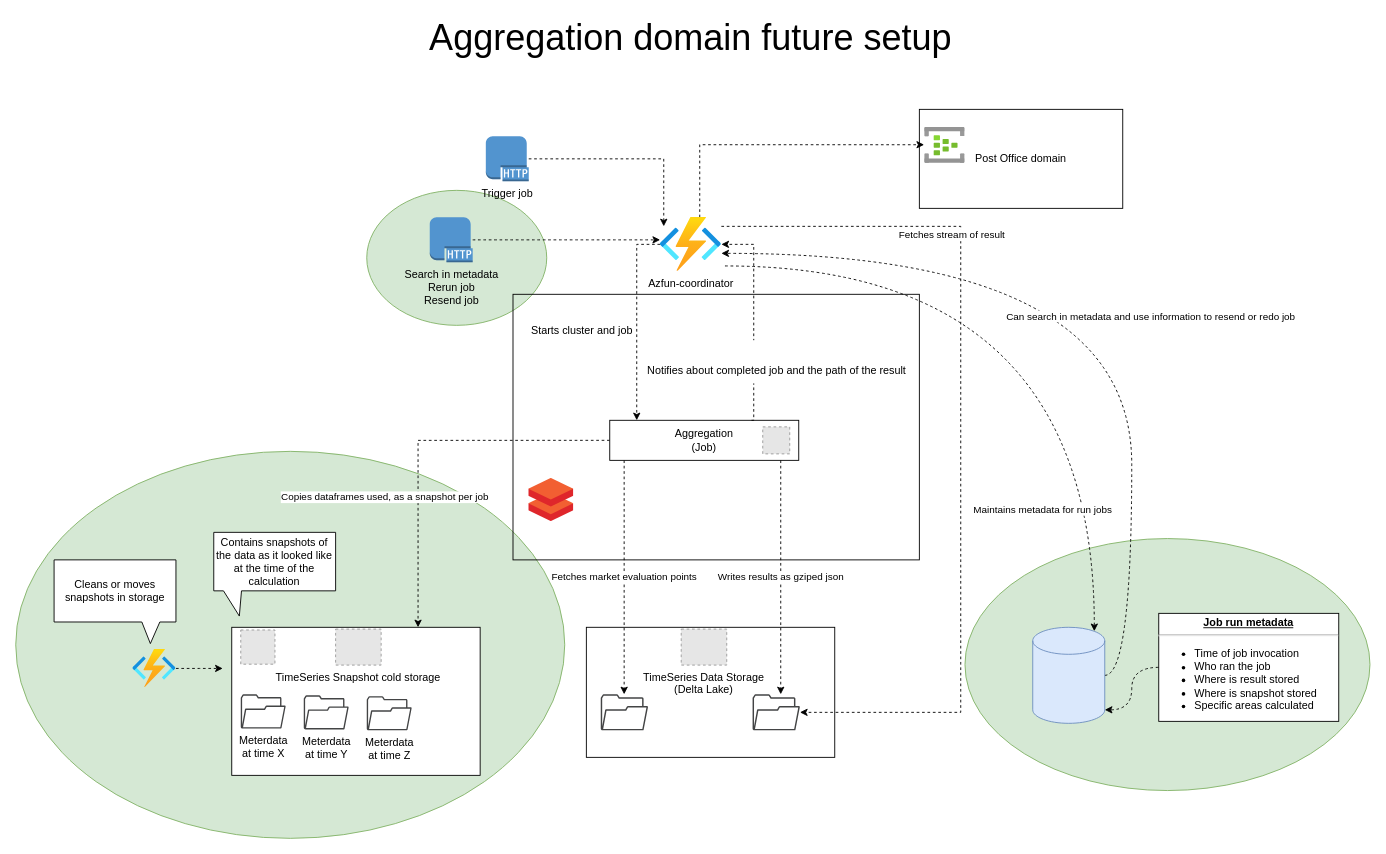
Some shapes in this 1386 by 854 pixel diagram are drawn without their labels. Grey dashed boxes stand in for pictures. Here are the shapes that lost their labels. From the top down, the centre of each, then its label:
point (944, 145): Eventhub
point (550, 499): Databricks
point (154, 668): Azfun-snapshot-maintainer
point (1068, 674): Aggregation Metadata
point (624, 712): Meterdata
point (775, 712): Results
